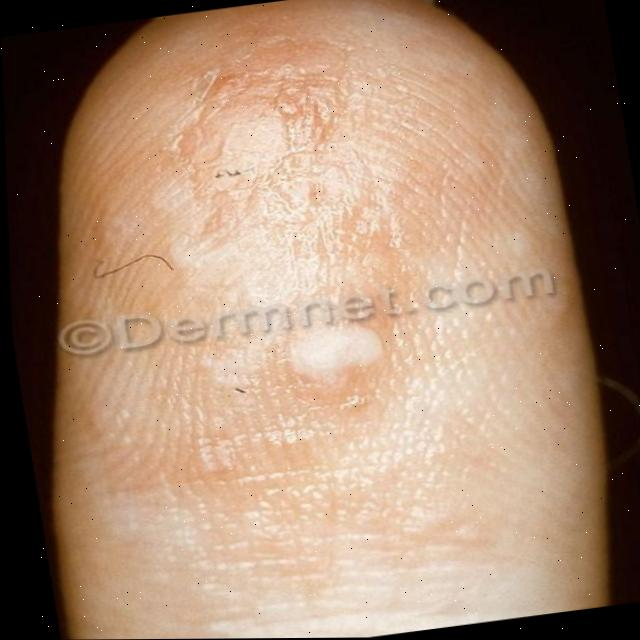Eczema: (162, 30, 413, 426)
